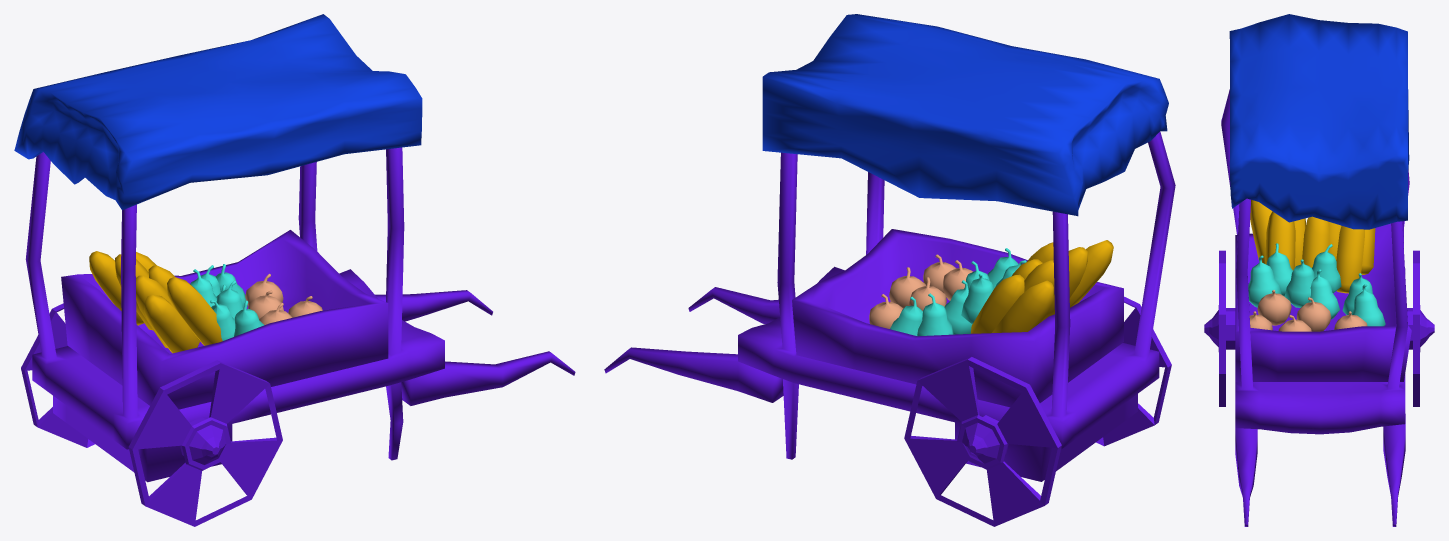
The model's file is market01.fbx.
The picture shows the model from 3 angles, left to right: view 1: azimuth 30°, elevation 25°; view 2: azimuth 150°, elevation 25°; view 3: azimuth 270°, elevation 25°; orthographic projection. The views are drawn at different scales.
Parts seen in each view (by area): view 1: Cart2.001; view 2: Cart2.001; view 3: Cart2.001.
Boxes of the visible parts, bbox=[...] form: Cart2.001: bbox=[14, 14, 575, 526]; Cart2.001: bbox=[604, 14, 1175, 526]; Cart2.001: bbox=[1204, 14, 1434, 526].
Bounding box in the file's own units: 102 × 81.49 × 47.93.
